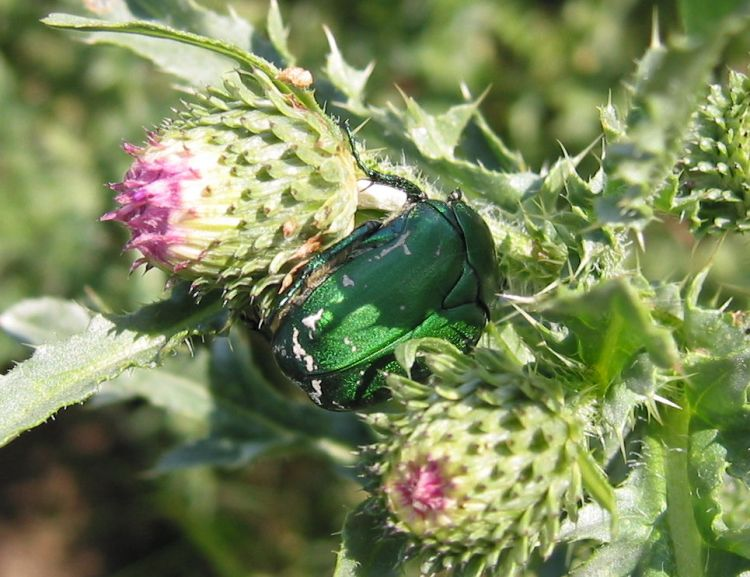Protaetia_ungarica: (268, 116, 516, 415)
